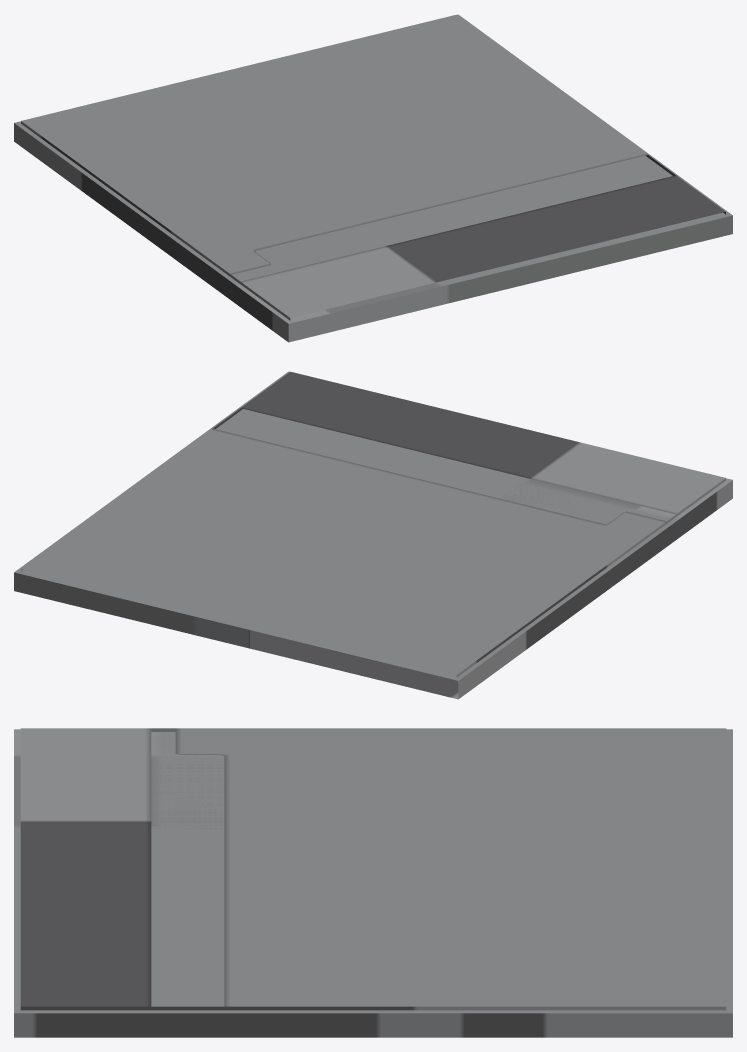
The picture shows the model from 3 angles, top to bottom: view 1: azimuth 30°, elevation 25°; view 2: azimuth 150°, elevation 25°; view 3: azimuth 270°, elevation 25°; orthographic projection. The views are drawn at different scales.
Size of the model in its own units: 1 by 0.046 by 1.07.
